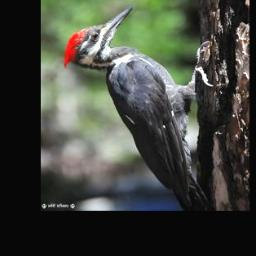Woodpecker: (63, 5, 214, 209)
